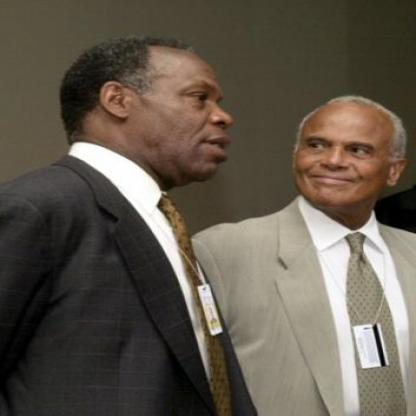face: (127, 47, 245, 185), (293, 98, 396, 212)
